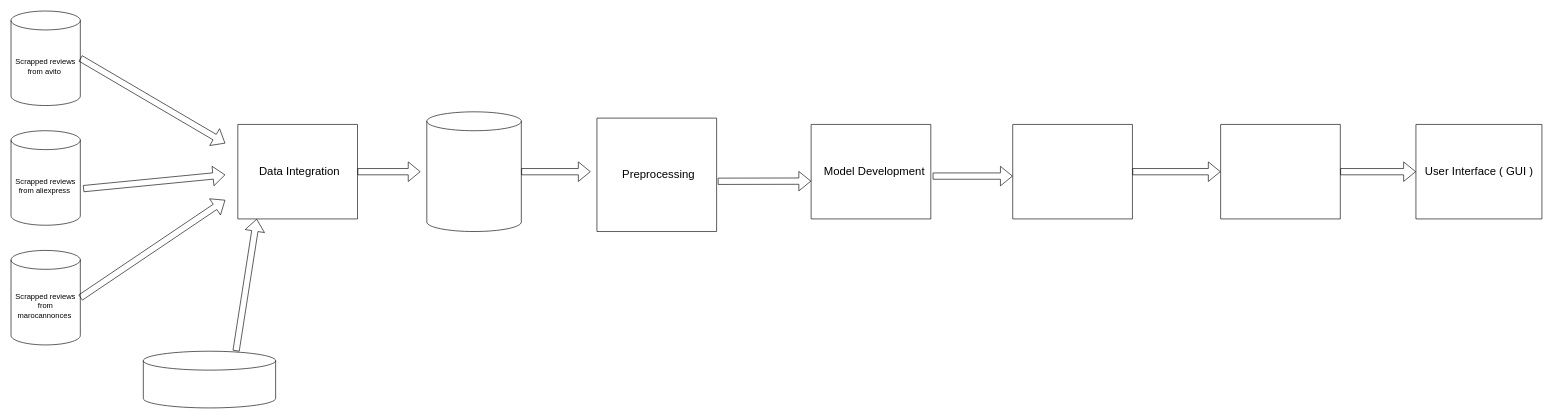
Image size: 1553x419. Some labels were removed from this diagram. Here are the shapes that lost their labels. From the top down, the centre of each, then its label:
At (473,171): "DATA WAREHOUSE".
At (1072,171): "Model Evaluation".
At (1280,171): "Model Deployment".
At (209,379): "DODa Dataset".
